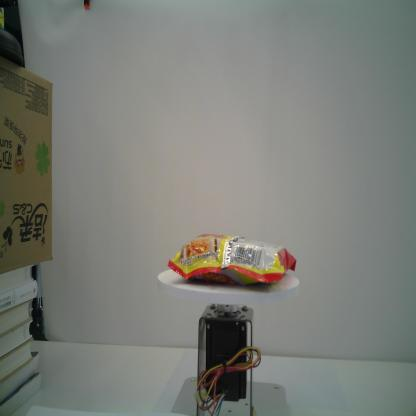Instant Noodles: (166, 232, 297, 285)
